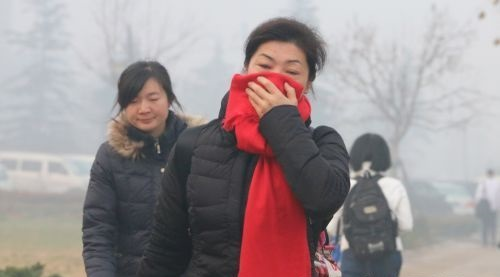face: (125, 81, 166, 131)
face_mask: (245, 43, 306, 112)
